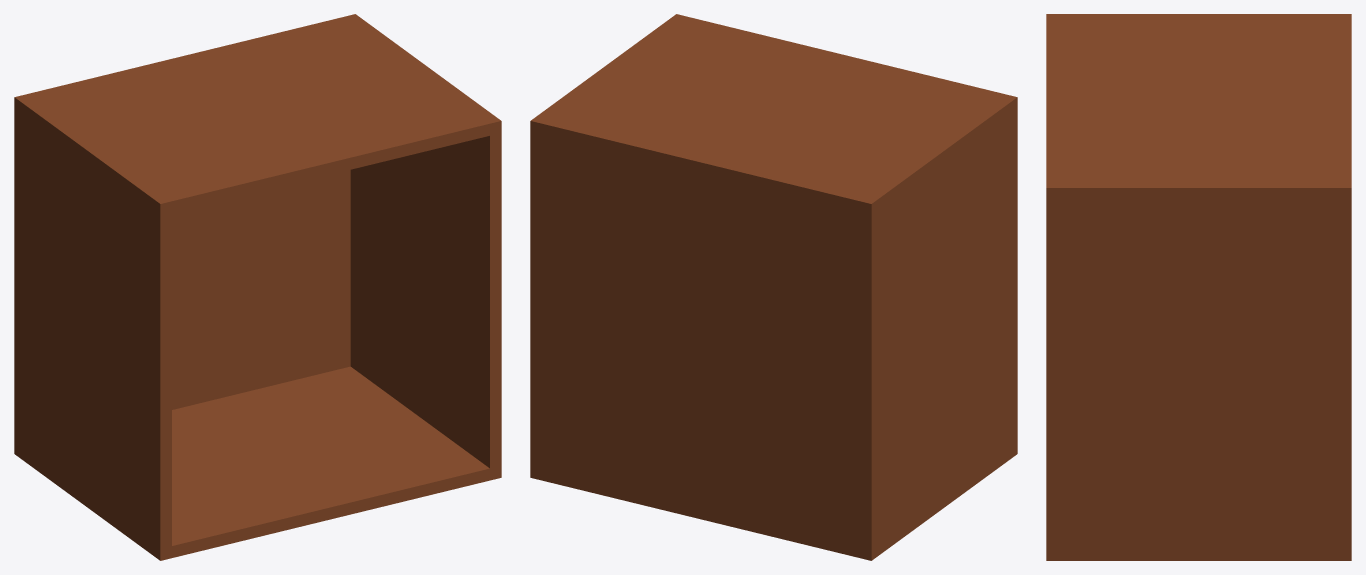
File: bookshelf.gltf
3 renders of one model, left to right at view 1: azimuth 30°, elevation 25°; view 2: azimuth 150°, elevation 25°; view 3: azimuth 270°, elevation 25°, orthographic. The views are drawn at different scales.
Parts seen in each view (by area): view 1: bookshelf; view 2: bookshelf; view 3: bookshelf.
Part boxes in pixels (<box>): bookshelf: <box>14,14,501,560</box>; bookshelf: <box>530,14,1017,560</box>; bookshelf: <box>1046,14,1351,560</box>.
Bounding box in the file's own units: 2.07 × 2.07 × 1.53.
